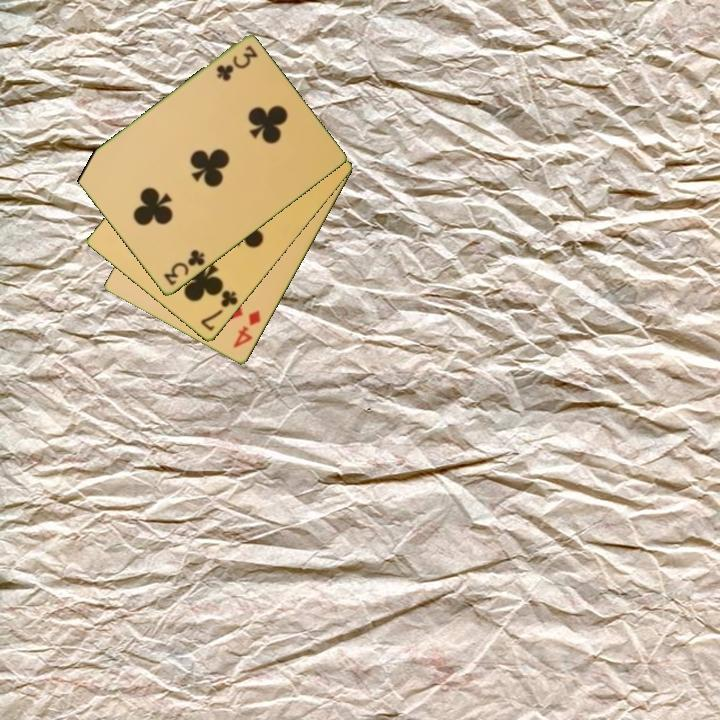3c: (160, 246, 208, 289), (213, 42, 260, 84)
4d: (229, 307, 264, 351)
7c: (197, 287, 241, 334)
